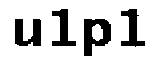1: (116, 3, 147, 50), (47, 6, 76, 48)
p: (82, 13, 112, 57)
u: (11, 15, 42, 52)
